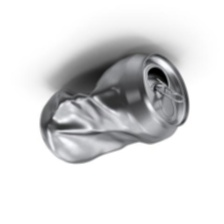can: (31, 48, 200, 166)
